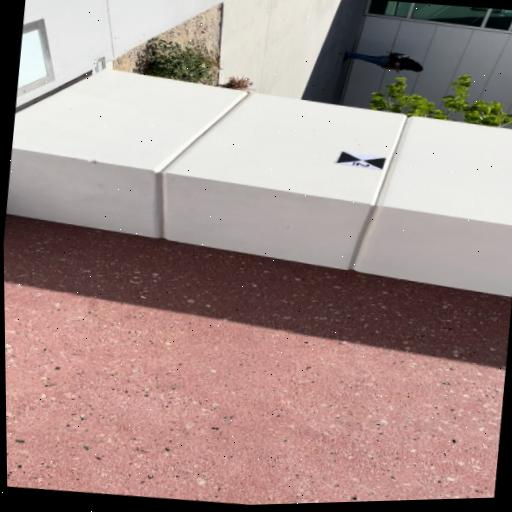target2: (335, 152, 385, 170)
